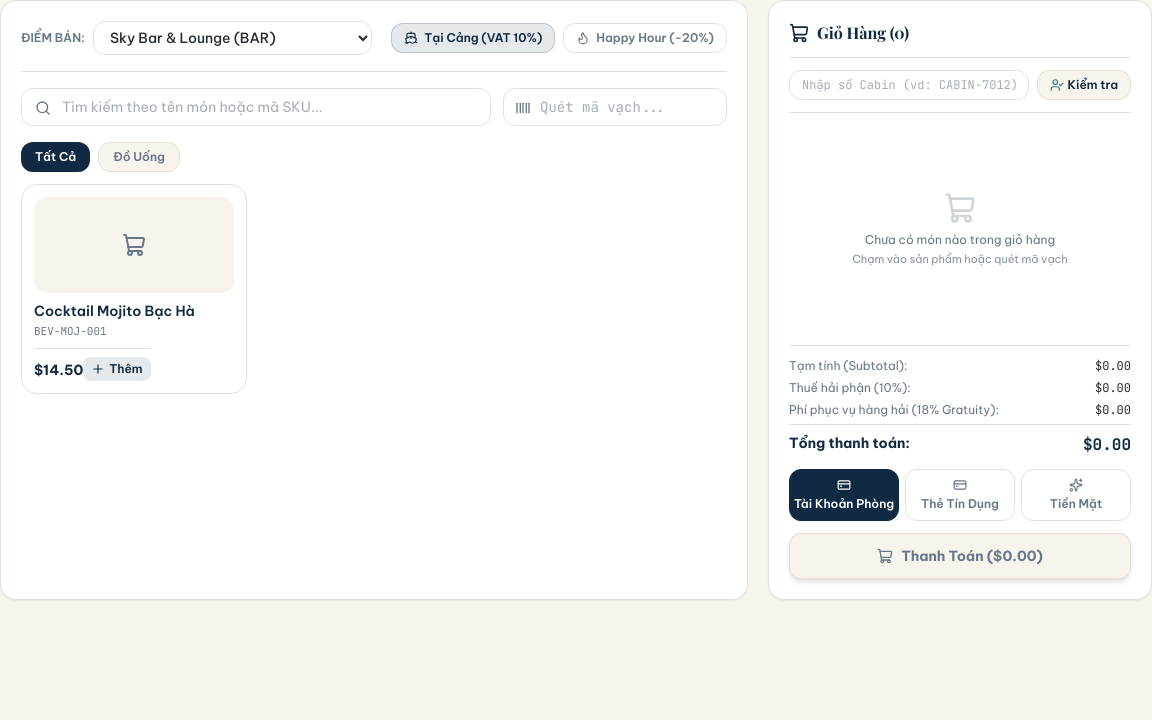
Test case: PosRegister Component Tests (KAN-234 & KAN-392) › adds items to cart and calculates subtotal and total correctly
Click the button "Cocktail Mojito Bạc Hà BEV-MOJ-001 $14.50 Thêm": [134, 289] box [21,184,247,394]
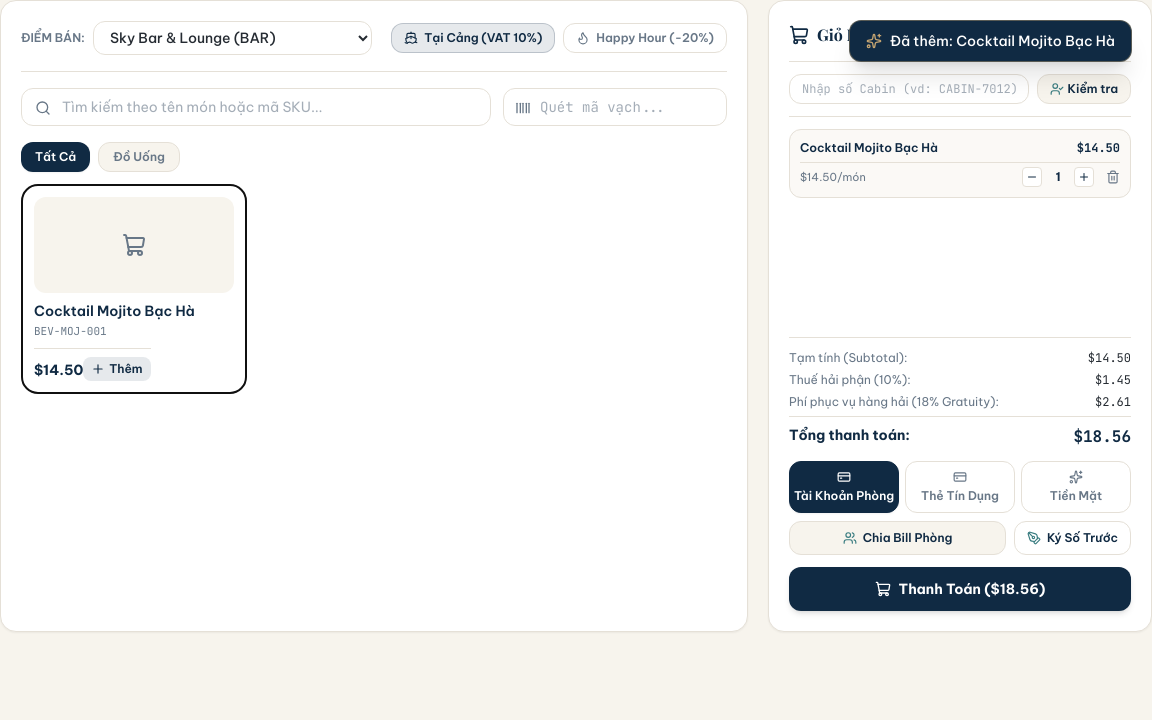
Result: the heading "Giỏ Hàng (1)" is shown at [817,23,906,47]
Result: the text "$14.50/món" is shown at [800,170,866,184]
